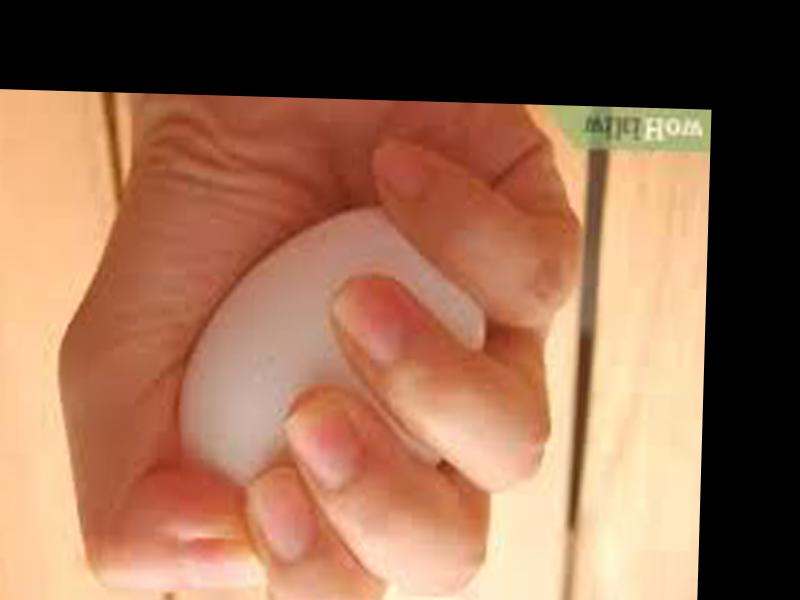Eggs: (174, 202, 490, 492)
